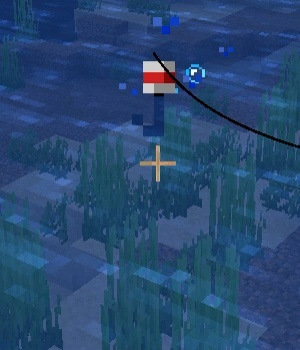up: (129, 56, 180, 136)
